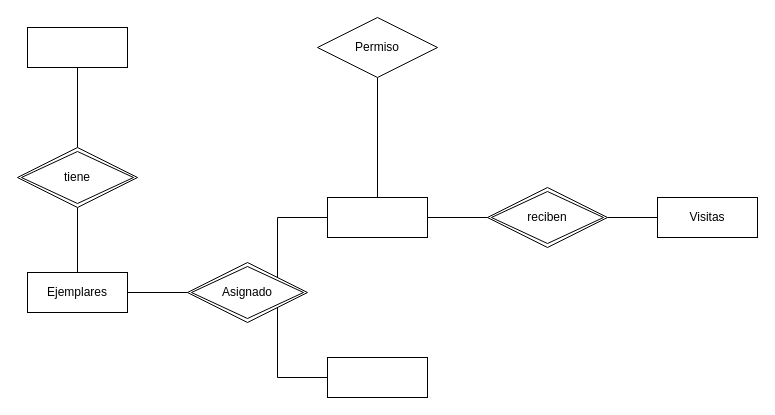
Some shapes in this 775 by 415 pixel diagram are drawn without their labels. Here are the shapes that lost their labels. From the top down, the centre of each, then its label:
point (77, 47): Especie
point (377, 217): Voluntario
point (377, 377): Cuidador
